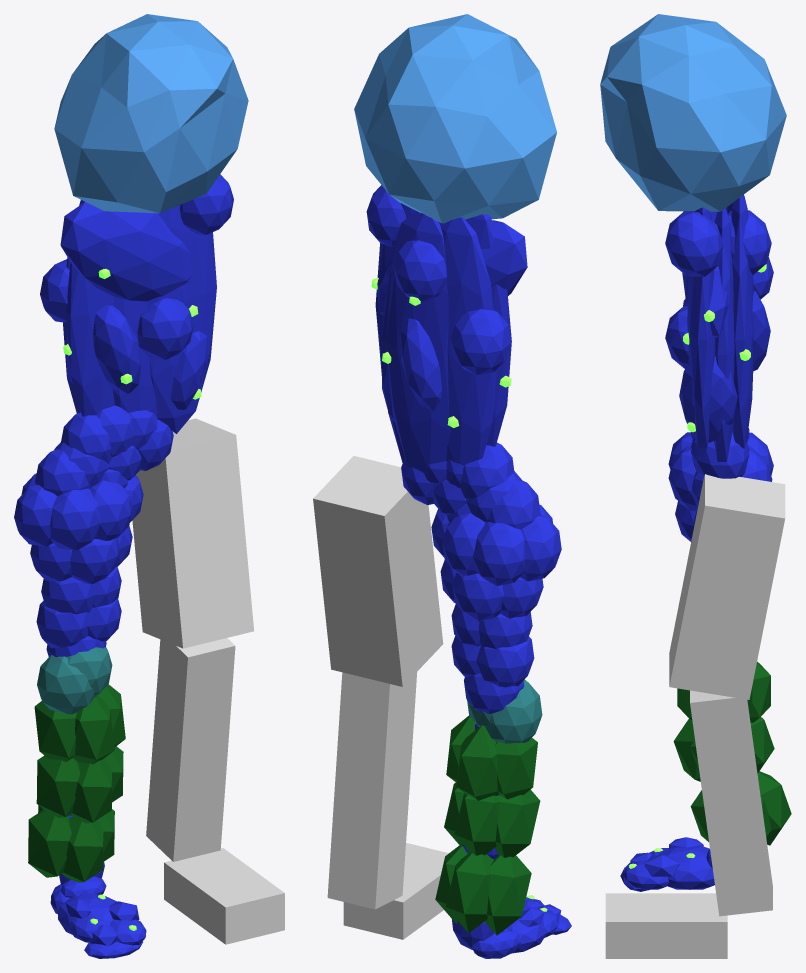
3 views of the same model, side by side, from view 1: azimuth 30°, elevation 25°; view 2: azimuth 150°, elevation 25°; view 3: azimuth 270°, elevation 25° (orthographic).
Visible parts, largest first — view 1: head, left leg higher, left leg lower, leg.030, left foot, Icosphere.001, Icosphere.002, leg.032, leg.033, leg.015, leg.021, coat right leg lower.008 (+34 smaller); view 2: head, left leg higher, left leg lower, Icosphere.004, Icosphere.005, left foot, leg.037, leg.014, coat right leg lower.011, leg.036, leg.030, coat right leg lower.008 (+30 smaller); view 3: head, left leg higher, left leg lower, left foot, Icosphere.004, Icosphere.001, leg.034, Icosphere.003, leg.031, right foot, leg.028, leg.035 (+14 smaller).
Part boxes in pixels (x1=…): head: x1=54, y1=14, x2=248, y2=213; left leg higher: x1=132, y1=418, x2=254, y2=648; left leg lower: x1=146, y1=638, x2=235, y2=861; leg.030: x1=60, y1=202, x2=191, y2=301; left foot: x1=164, y1=848, x2=284, y2=944; Icosphere.001: x1=147, y1=205, x2=216, y2=433; Icosphere.002: x1=66, y1=201, x2=114, y2=416; leg.032: x1=93, y1=305, x2=141, y2=393; leg.033: x1=137, y1=298, x2=193, y2=359; leg.015: x1=50, y1=488, x2=100, y2=550; leg.021: x1=37, y1=655, x2=96, y2=714; coat right leg lower.008: x1=28, y1=809, x2=71, y2=877; head: x1=354, y1=14, x2=556, y2=223; left leg higher: x1=313, y1=456, x2=443, y2=686; left leg lower: x1=327, y1=672, x2=417, y2=909; Icosphere.004: x1=386, y1=213, x2=450, y2=473; Icosphere.005: x1=439, y1=217, x2=496, y2=465; left foot: x1=343, y1=843, x2=448, y2=939; leg.037: x1=450, y1=309, x2=510, y2=375; leg.014: x1=473, y1=522, x2=525, y2=585; coat right leg lower.011: x1=445, y1=852, x2=493, y2=933; leg.036: x1=400, y1=318, x2=441, y2=411; leg.030: x1=377, y1=220, x2=527, y2=314; coat right leg lower.008: x1=484, y1=855, x2=531, y2=935; head: x1=600, y1=14, x2=786, y2=211; left leg higher: x1=669, y1=474, x2=785, y2=699; left leg lower: x1=690, y1=690, x2=772, y2=916; left foot: x1=605, y1=893, x2=727, y2=958; Icosphere.004: x1=731, y1=194, x2=753, y2=448; Icosphere.001: x1=687, y1=207, x2=715, y2=459; leg.034: x1=665, y1=211, x2=723, y2=276; Icosphere.003: x1=714, y1=208, x2=734, y2=461; leg.031: x1=679, y1=356, x2=737, y2=442; right foot: x1=657, y1=846, x2=714, y2=889; leg.028: x1=691, y1=432, x2=749, y2=478; leg.035: x1=727, y1=210, x2=771, y2=274.
Size of the model in its own units: 0.3542 by 1.45 by 0.2824.
